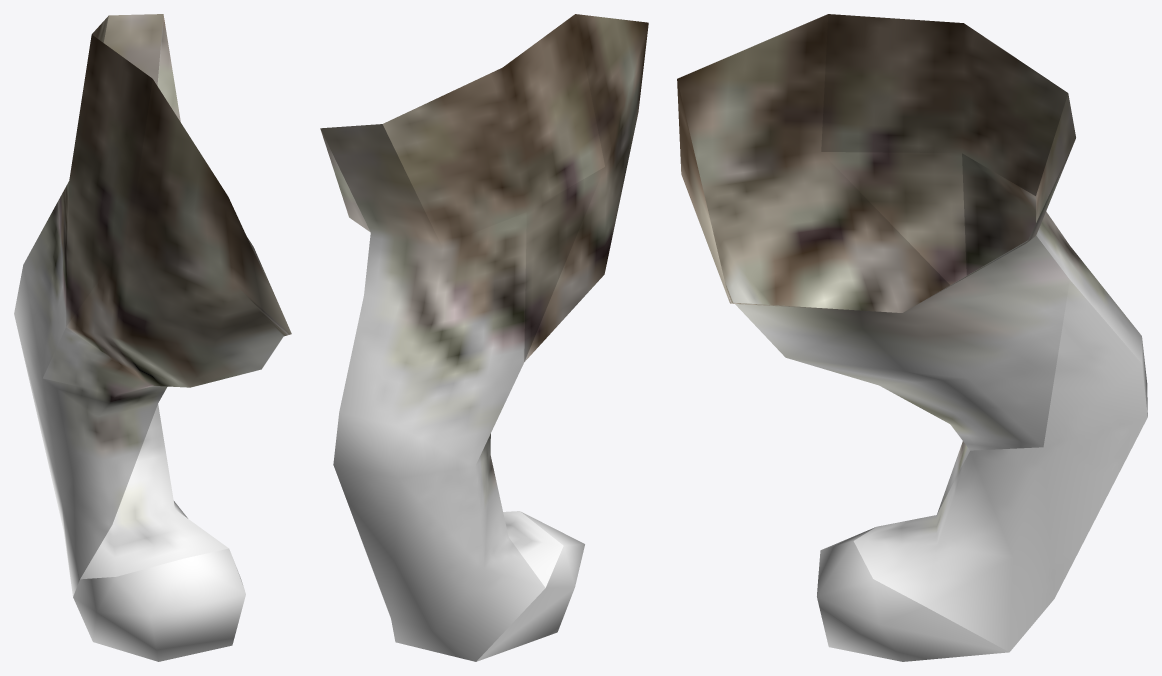
Rendered from r_leg.obj.
3 views of the same model, side by side, from view 1: azimuth 30°, elevation 25°; view 2: azimuth 150°, elevation 25°; view 3: azimuth 270°, elevation 25° (orthographic).
Visible parts, largest first — view 1: vsn_mesh_2__mesh_2_.006; view 2: vsn_mesh_2__mesh_2_.006; view 3: vsn_mesh_2__mesh_2_.006.
Boxes of the visible parts, x1,y1,x2,y2 form: vsn_mesh_2__mesh_2_.006: (14,14,291,661); vsn_mesh_2__mesh_2_.006: (320,14,648,661); vsn_mesh_2__mesh_2_.006: (677,14,1147,661).
Bounding box in the file's own units: 0.5298 × 1.83 × 1.28.
2 materials, 2 textured.
